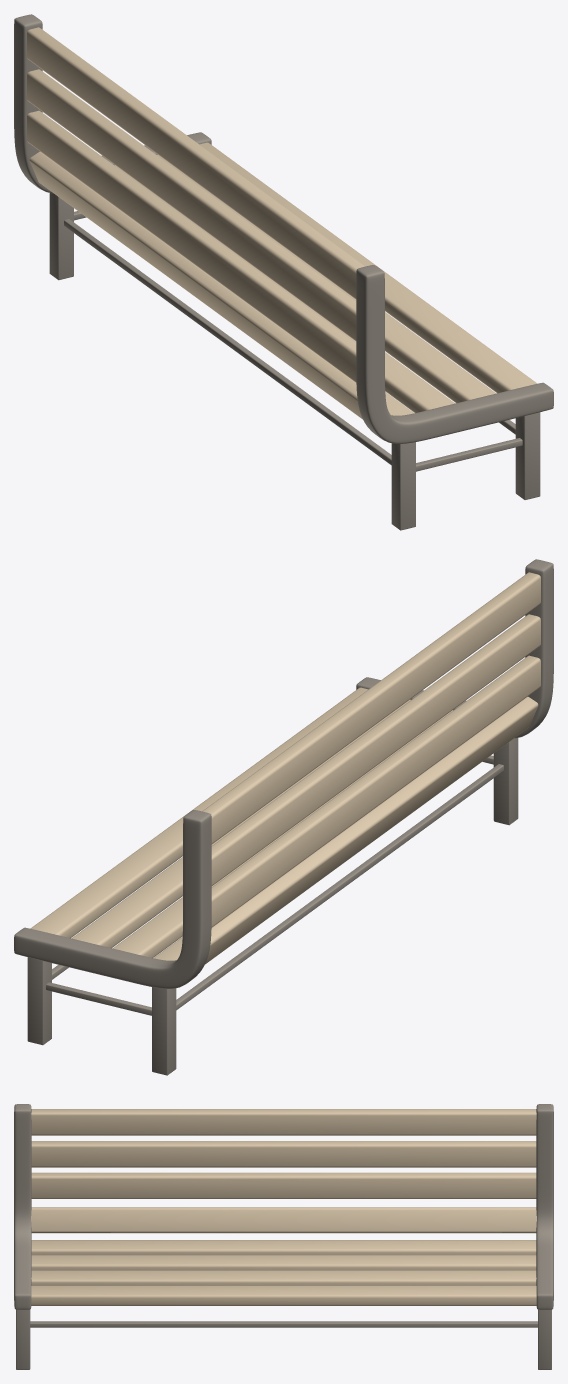
The model's file is chair.glb.
3 renders of one model, top to bottom at view 1: azimuth 30°, elevation 25°; view 2: azimuth 150°, elevation 25°; view 3: azimuth 270°, elevation 25°, orthographic. The views are drawn at different scales.
Parts seen in each view (by area): view 1: Null; view 2: Null; view 3: Null.
Boxes of the visible parts, x1,y1,x2,y2 form: Null: (14,14,553,530); Null: (14,559,553,1075); Null: (14,1104,553,1369).
Bounding box in the file's own units: 0.6545 × 0.8742 × 2.12.
